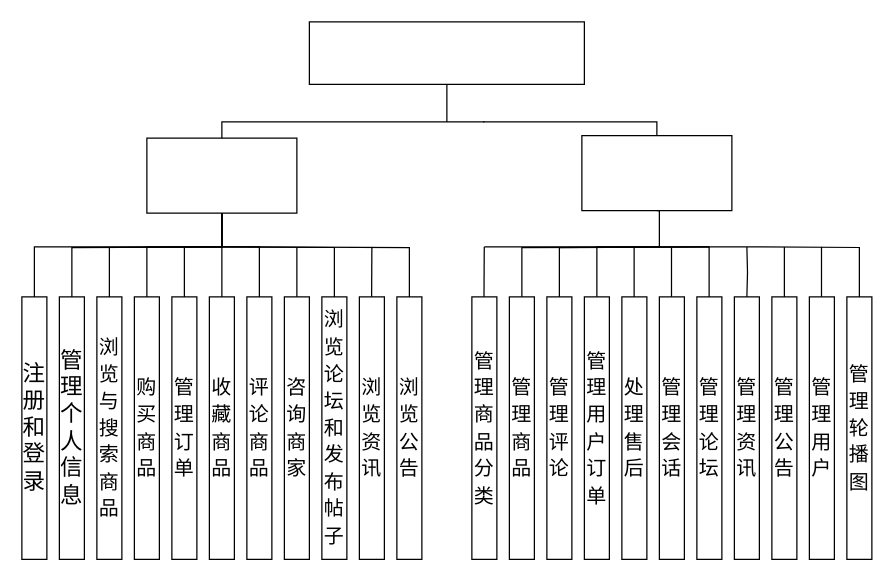
The diagram is 894 pixels wide and 581 high, and some of its shapes have lost their labels. Each missing label, with the box of its shape:
商家端: (581, 134, 732, 211)
用户端: (146, 137, 297, 213)
电脑配件销售管理系统: (308, 21, 584, 84)
